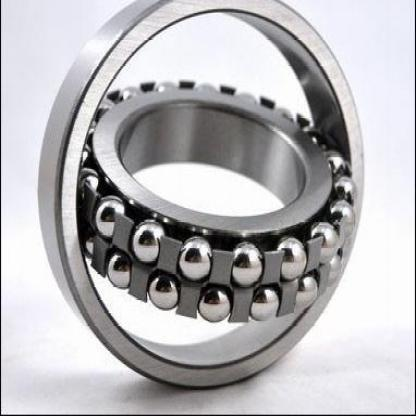FOD: (34, 0, 369, 395)
